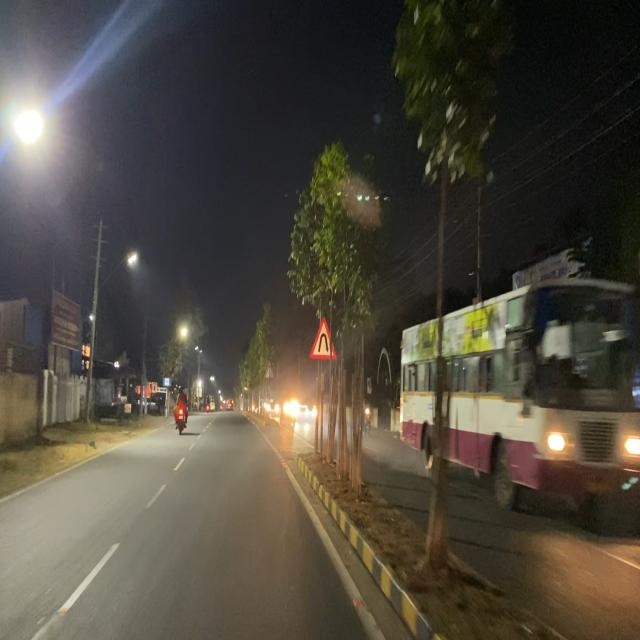bien_nguy_hiem: (309, 314, 336, 361)
